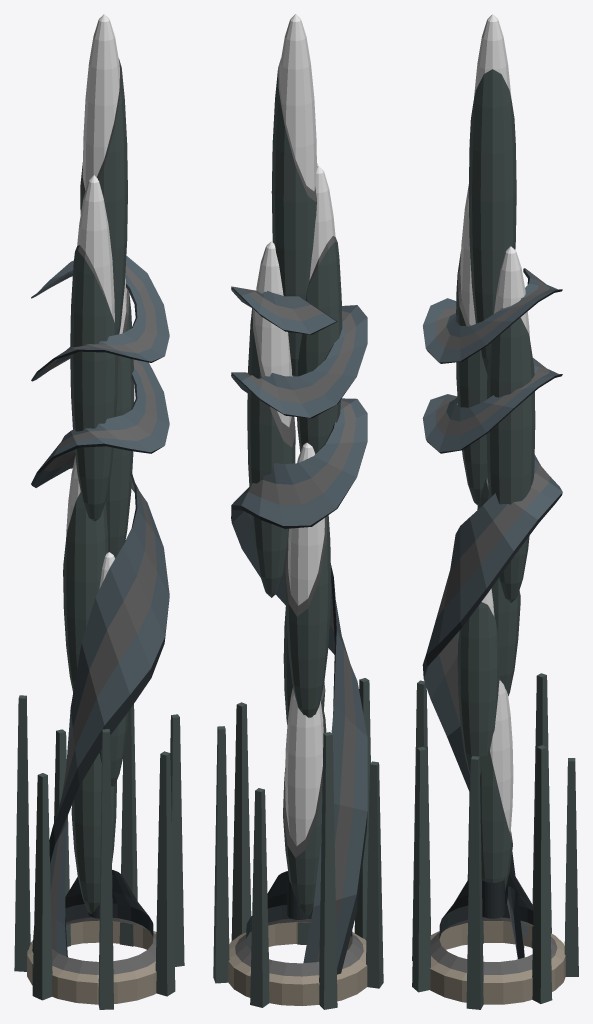
File: building_52.fbx
3 views of the same model, side by side, from view 1: azimuth 30°, elevation 25°; view 2: azimuth 150°, elevation 25°; view 3: azimuth 270°, elevation 25° (orthographic).
Visible parts, largest first — view 1: building_52; view 2: building_52; view 3: building_52.
Part boxes in pixels (box(x1,y1,x2,y2)): building_52: box(14, 14, 184, 1009); building_52: box(213, 14, 383, 1009); building_52: box(412, 14, 578, 1009).
Size of the model in its own units: 669 by 4150 by 652.
